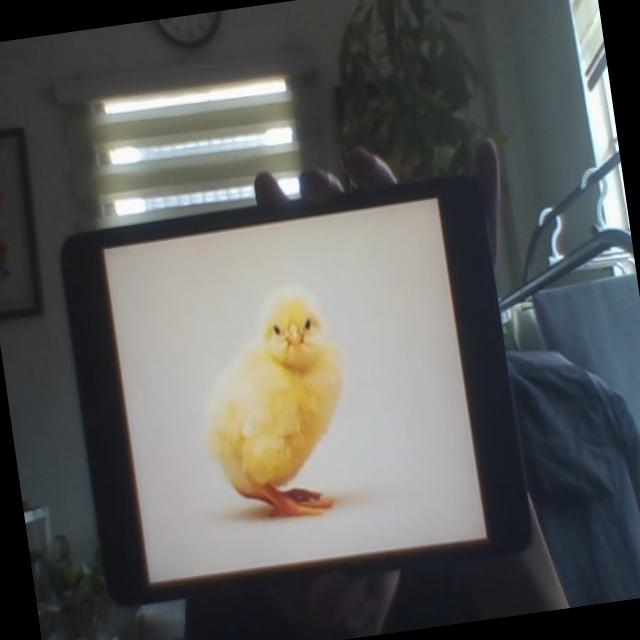Healthy: (193, 287, 360, 534)
